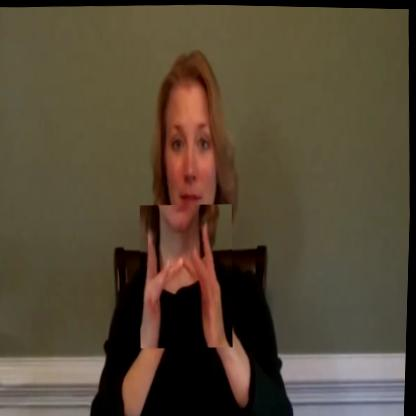Internet: (137, 202, 238, 349)
